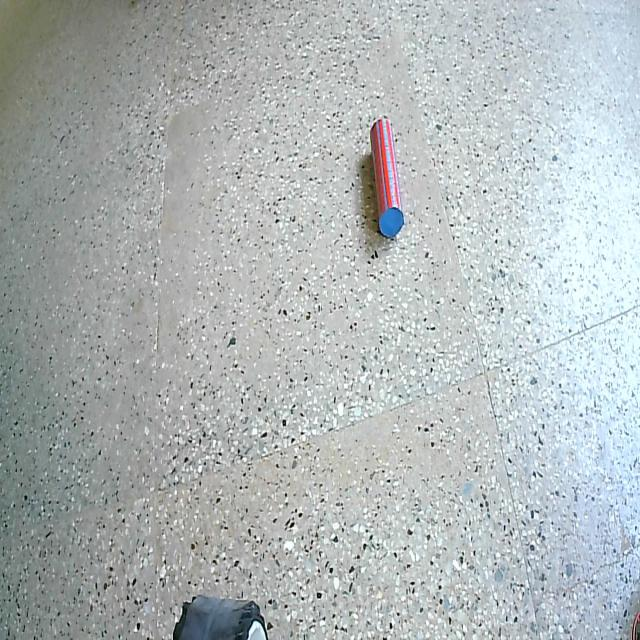cylinder: (364, 102, 417, 254)
